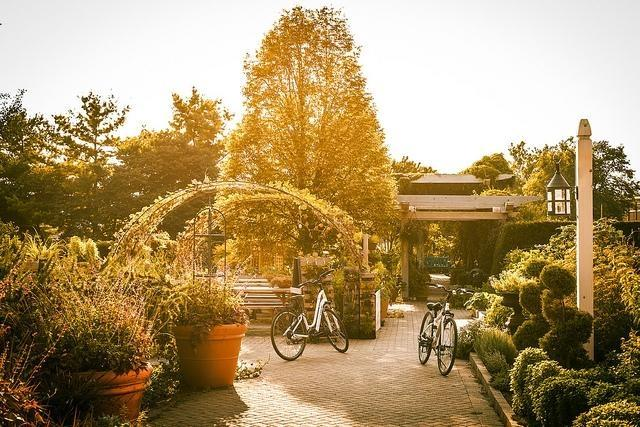bicycle: (268, 272, 345, 361), (416, 280, 476, 378)
